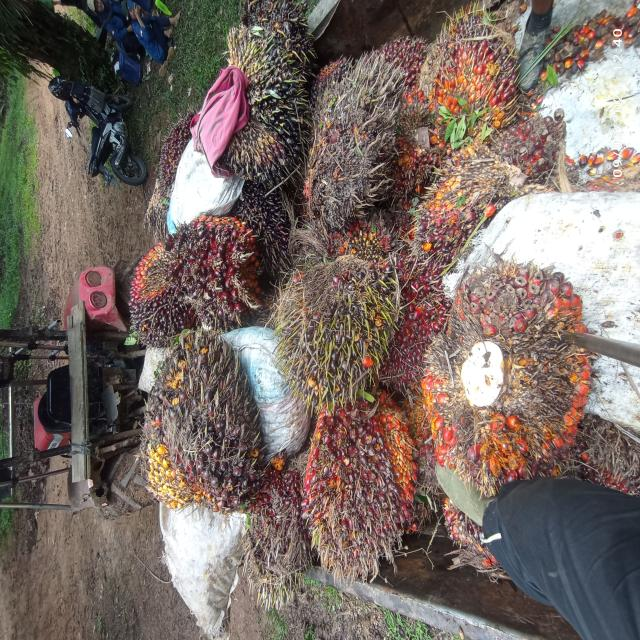fraksi 00: (128, 329, 270, 522), (264, 253, 406, 409), (218, 4, 315, 189), (303, 64, 407, 235), (118, 229, 196, 344)
fraksi 1: (389, 110, 588, 249), (178, 208, 268, 323)
fraksi 3: (299, 390, 419, 588), (411, 8, 523, 134)
fraksi 4: (416, 264, 610, 480)
